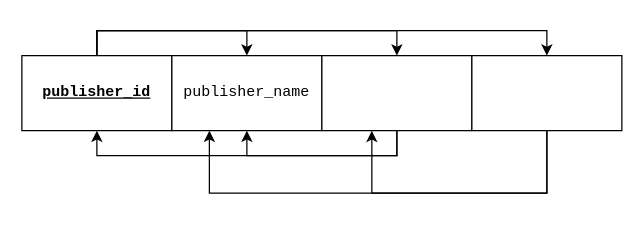
The diagram is 644 pixels wide and 225 high, and some of its shapes have lost their labels. The shapes that lost their labels are listed below. From the top down, each one's centre as x and y in pixels, then its label:
At [396,92]: "email_address".
At [546,92]: "website".
